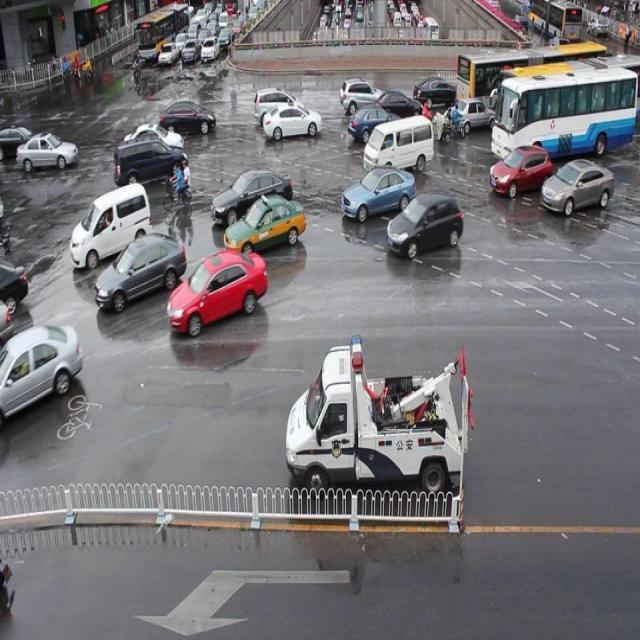BigCar: (491, 70, 640, 159)
car: (283, 335, 476, 511), (178, 258, 264, 352), (88, 227, 179, 315), (68, 168, 148, 264), (0, 320, 78, 408), (392, 188, 462, 275), (223, 200, 316, 257), (548, 153, 612, 231), (107, 130, 183, 186), (196, 174, 305, 212), (372, 123, 436, 178), (262, 94, 320, 154), (155, 94, 228, 138), (339, 172, 414, 214), (498, 146, 547, 202), (19, 128, 74, 175)
